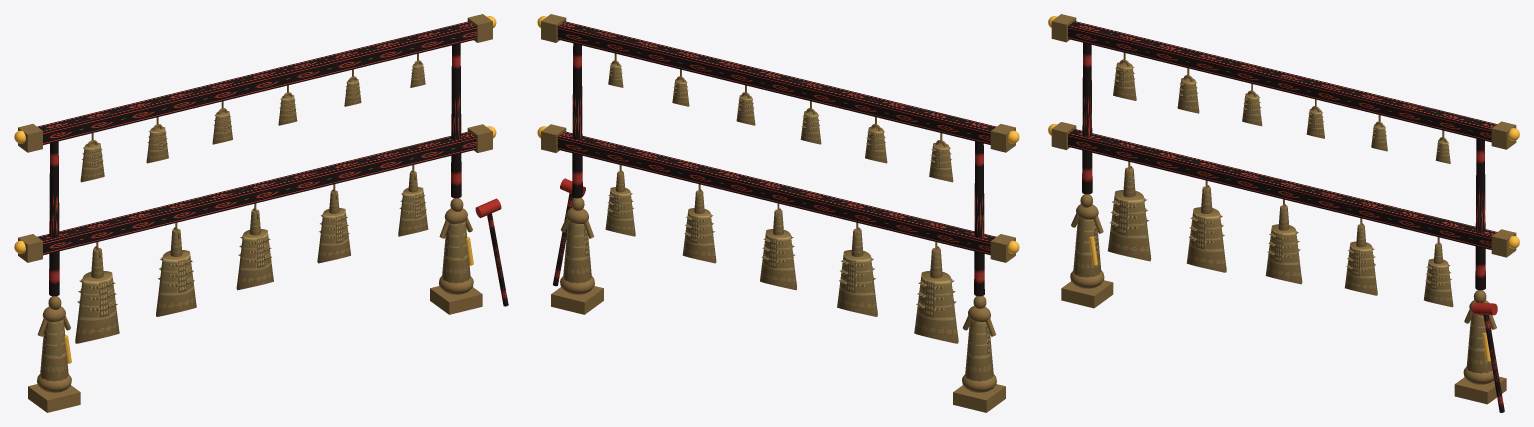
File: bianzhong.glb
The picture shows the model from 3 angles, left to right: view 1: azimuth 30°, elevation 25°; view 2: azimuth 150°, elevation 25°; view 3: azimuth 330°, elevation 25°; orthographic projection. The views are drawn at different scales.
Visible parts, largest first — view 1: Bianzhong; view 2: Bianzhong; view 3: Bianzhong.
Boxes of the visible parts, bbox=[...] form: Bianzhong: bbox=[14, 14, 508, 412]; Bianzhong: bbox=[537, 14, 1019, 412]; Bianzhong: bbox=[1048, 14, 1519, 412].
Size of the model in its own units: 10.04 by 5.58 by 0.96.
5 materials, 2 textured.
